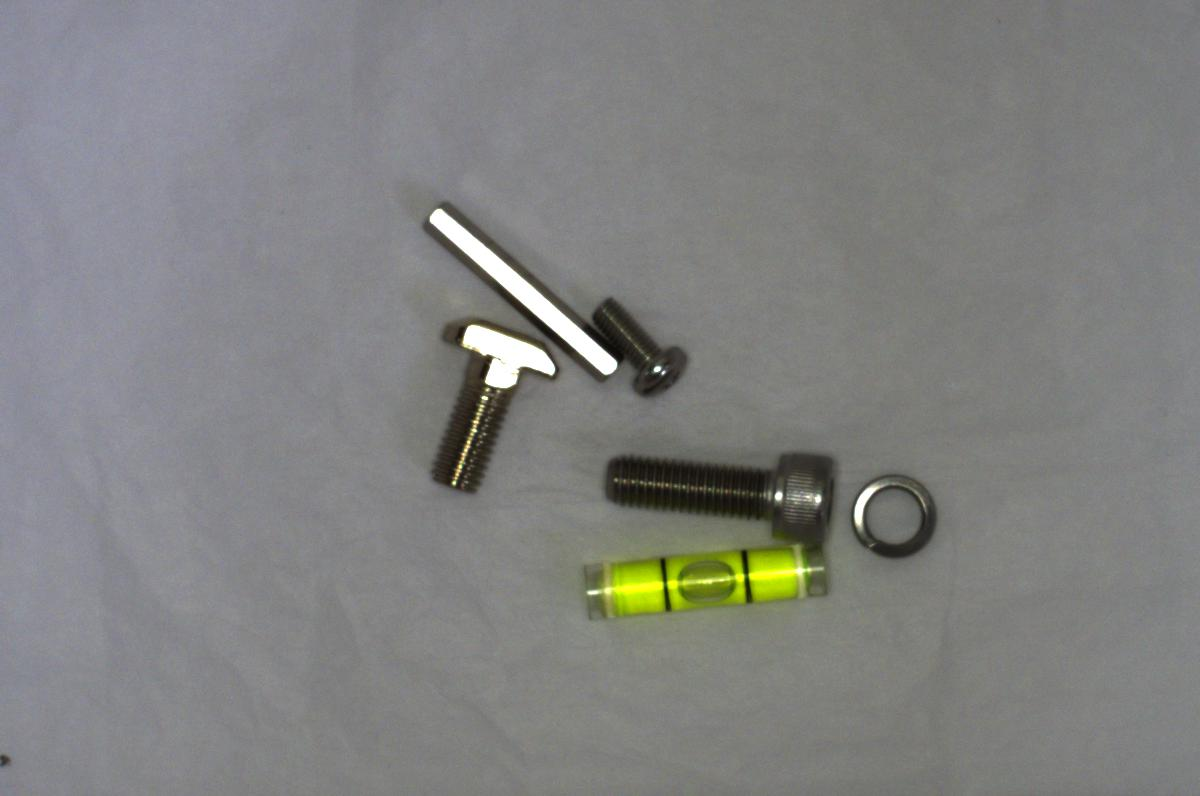Double hexagonal column: (420, 201, 619, 380)
Hexagon screw: (586, 432, 837, 549)
Horizontal bubble: (572, 548, 840, 627)
Round head screw: (592, 289, 691, 400)
Spring washer: (844, 465, 940, 560)
T-shaped screw: (407, 312, 565, 494)
